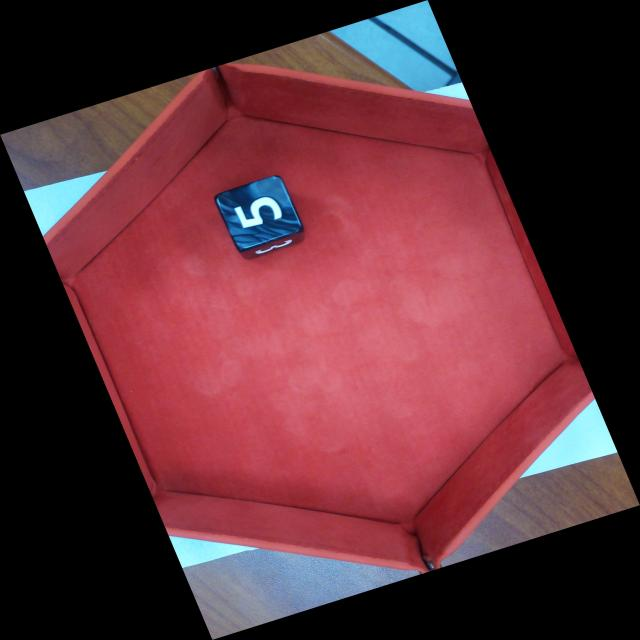dice: (211, 173, 309, 256)
